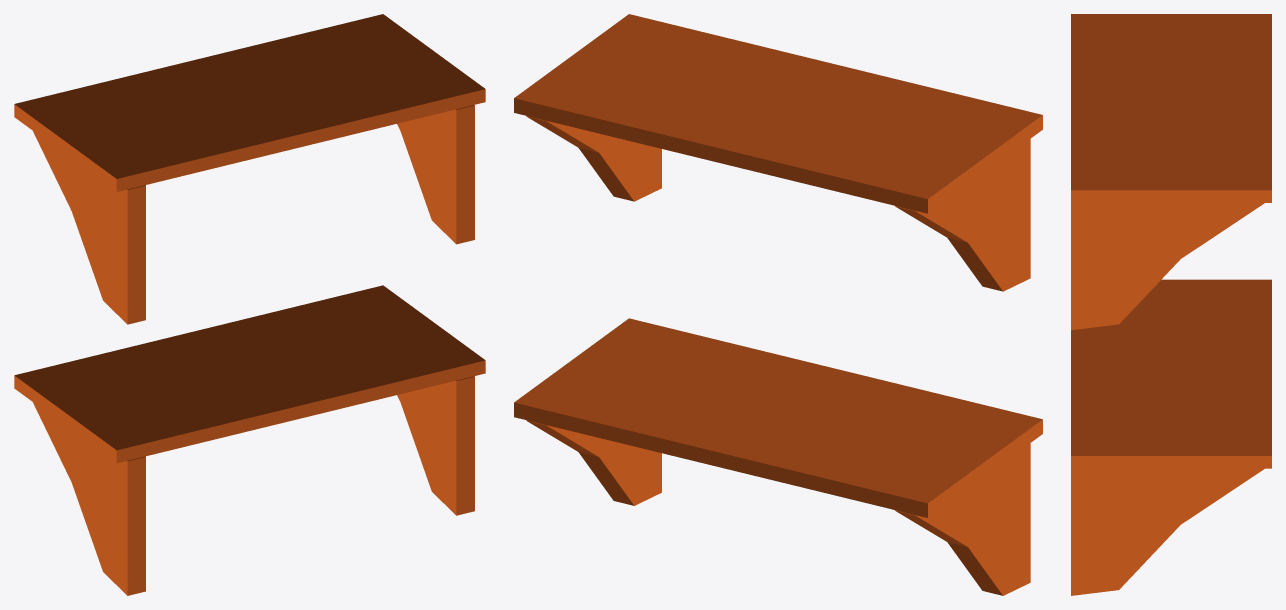
File: Storage Rack 5.fbx
3 renders of one model, left to right at view 1: azimuth 30°, elevation 25°; view 2: azimuth 150°, elevation 25°; view 3: azimuth 270°, elevation 25°, orthographic. The views are drawn at different scales.
Visible parts, largest first — view 1: Node 0; view 2: Node 0; view 3: Node 0.
Boxes of the visible parts, <box> form: Node 0: <box>14,14,485,595</box>; Node 0: <box>514,14,1042,595</box>; Node 0: <box>1071,14,1271,595</box>.
Size of the model in its own units: 0.3 by 0.6771 by 0.6232.
